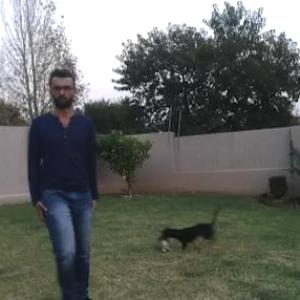follow: (28, 67, 102, 299)
